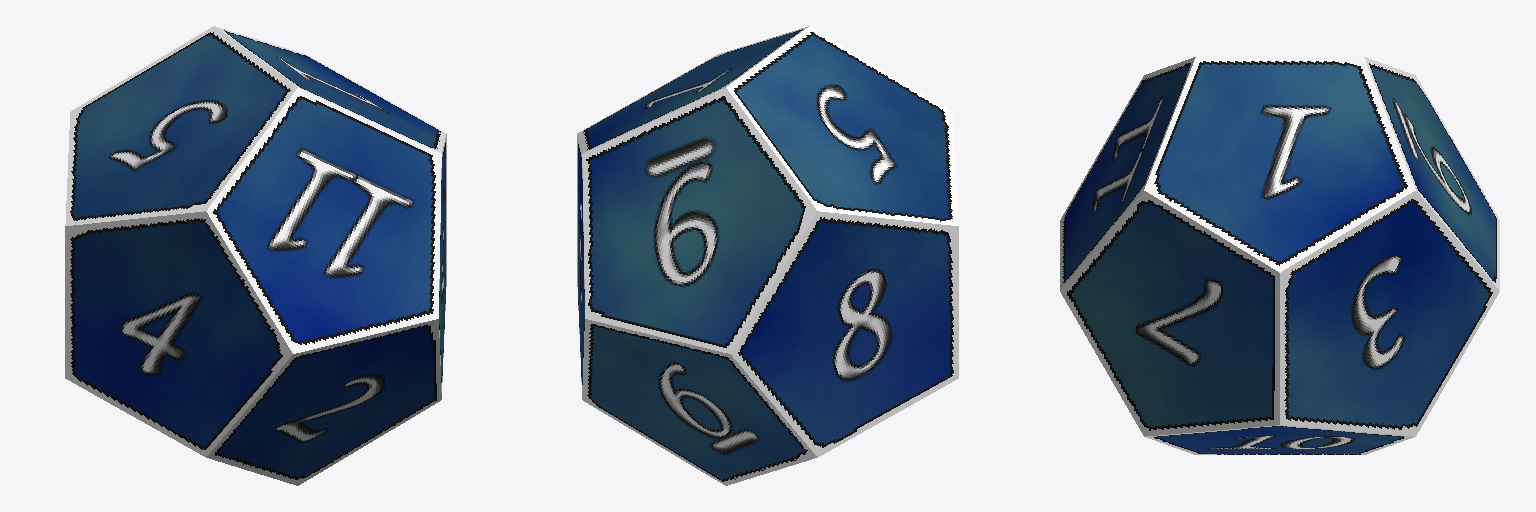
3 views of the same model, side by side, from view 1: azimuth 30°, elevation 25°; view 2: azimuth 150°, elevation 25°; view 3: azimuth 270°, elevation 25° (orthographic).
Parts seen in each view (by area): view 1: Solid; view 2: Solid; view 3: Solid.
Part boxes in pixels (x1,y1,x2,y2): Solid: (65,26,446,485); Solid: (577,26,958,485); Solid: (1060,57,1499,454).
Bounding box in the file's own units: 0.587 × 0.587 × 0.587.
1 materials, 1 textured.